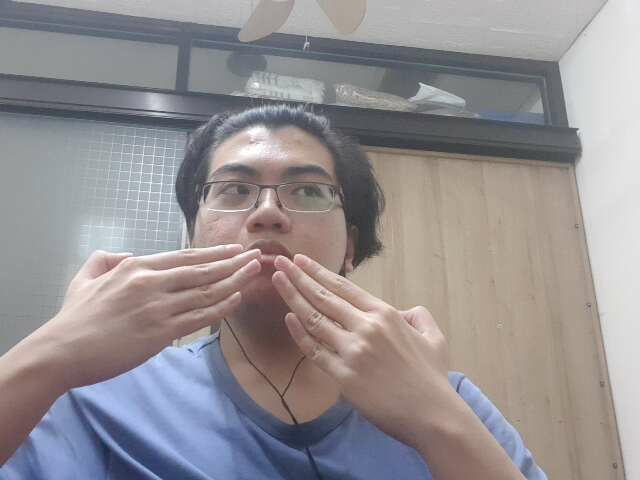thanks: (49, 235, 467, 439)
